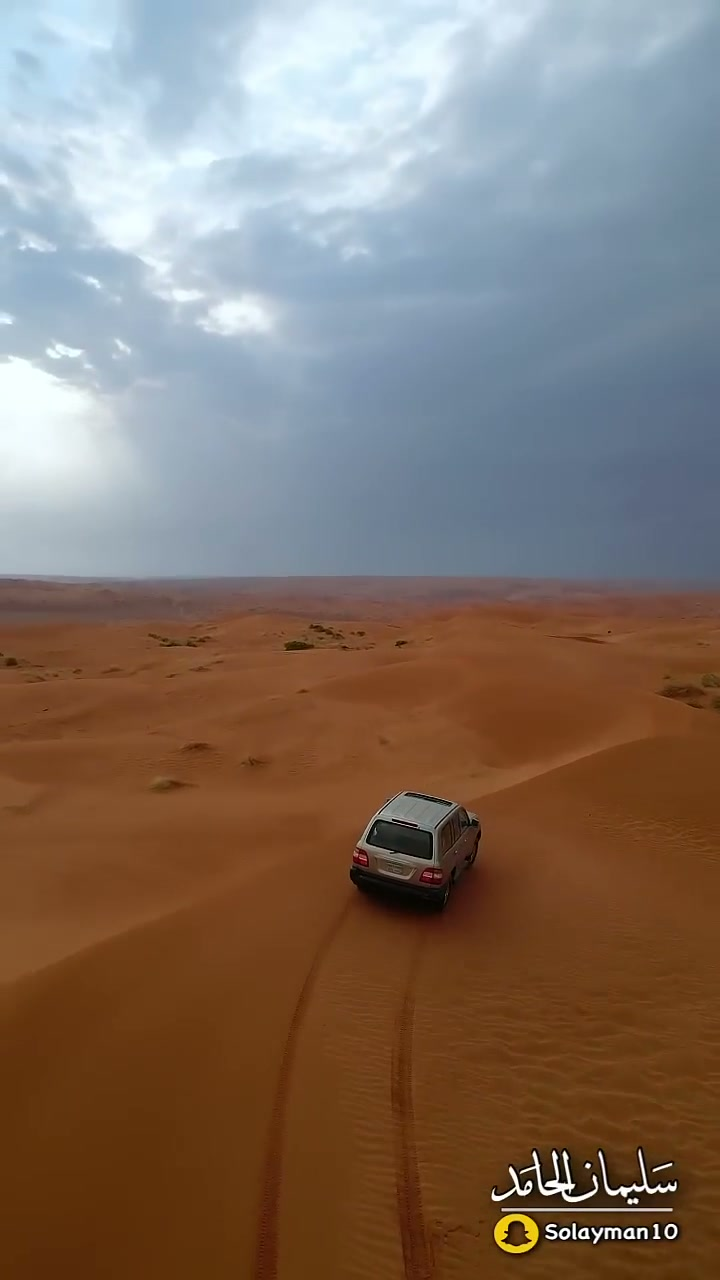vehicle_track: (252, 899, 353, 1279), (391, 933, 432, 1279)
